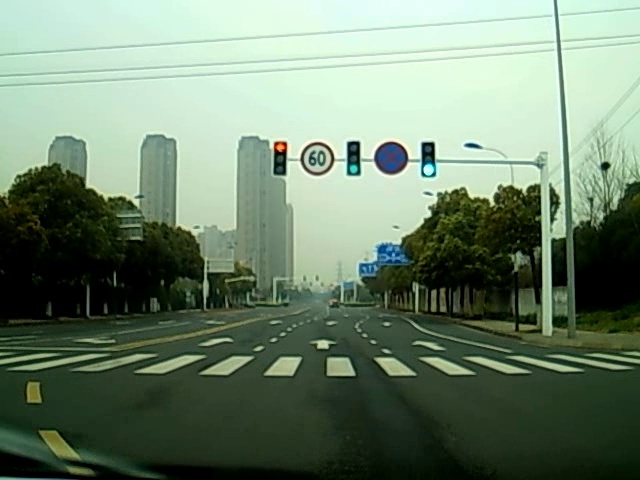Traffic_Light_go: (421, 141, 437, 180), (347, 142, 360, 177)
Traffic_Light_stop: (272, 140, 288, 178)
